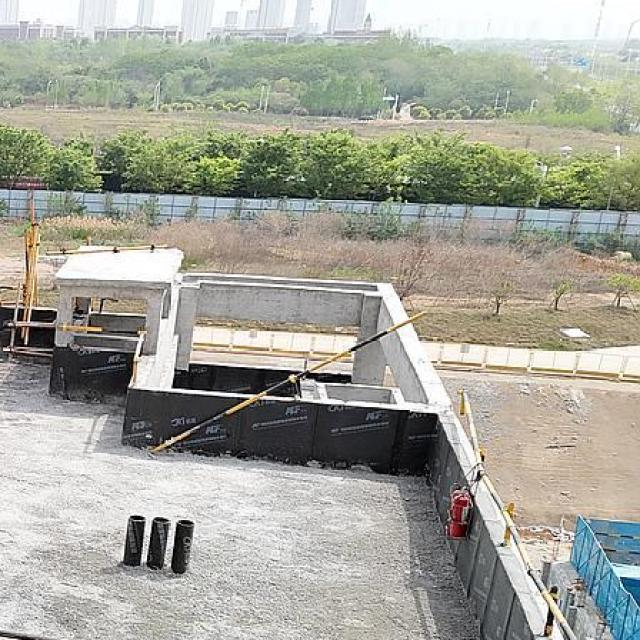edge_guardrail: (151, 309, 429, 455), (458, 387, 579, 640), (57, 324, 149, 387), (595, 532, 640, 555)
